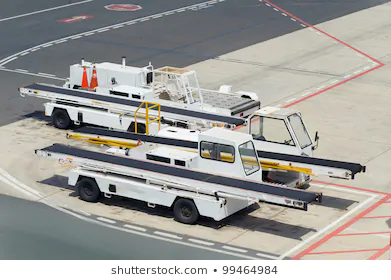baggagetruck: (21, 55, 321, 172), (34, 129, 326, 228)
